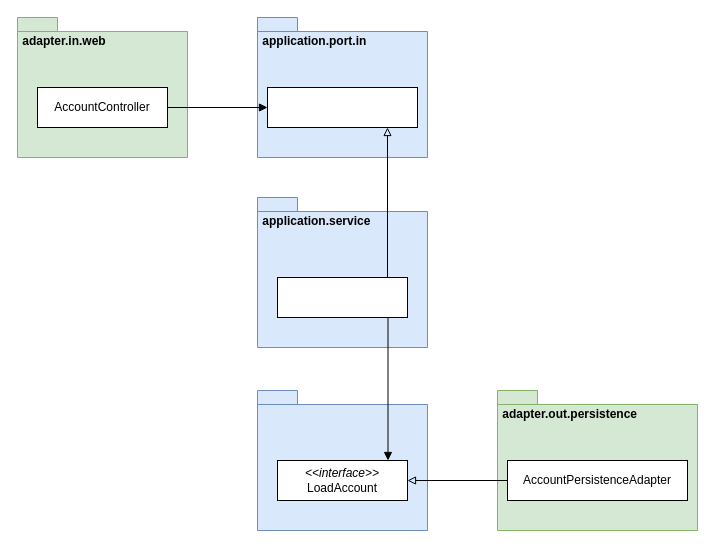
The diagram is 715 pixels wide and 548 high, and some of its shapes have lost their labels. Each missing label, with the box of its shape:
<<interface>> SendMoneyUseCase: (266, 86, 418, 128)
application.port.out: (256, 390, 428, 530)
SendMoneyService: (276, 276, 408, 318)
